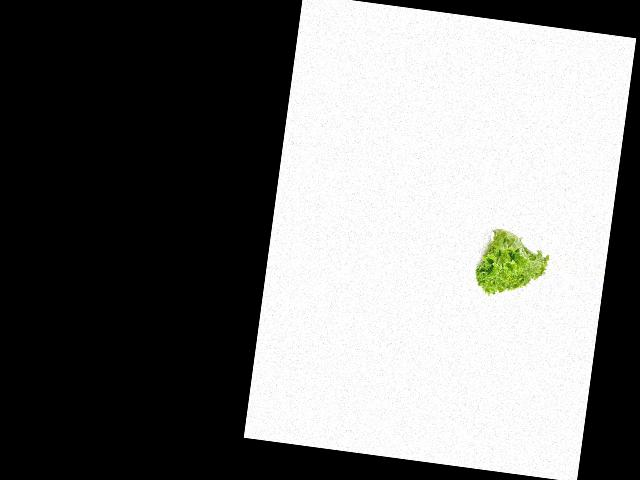lettuce: (472, 221, 555, 307)
